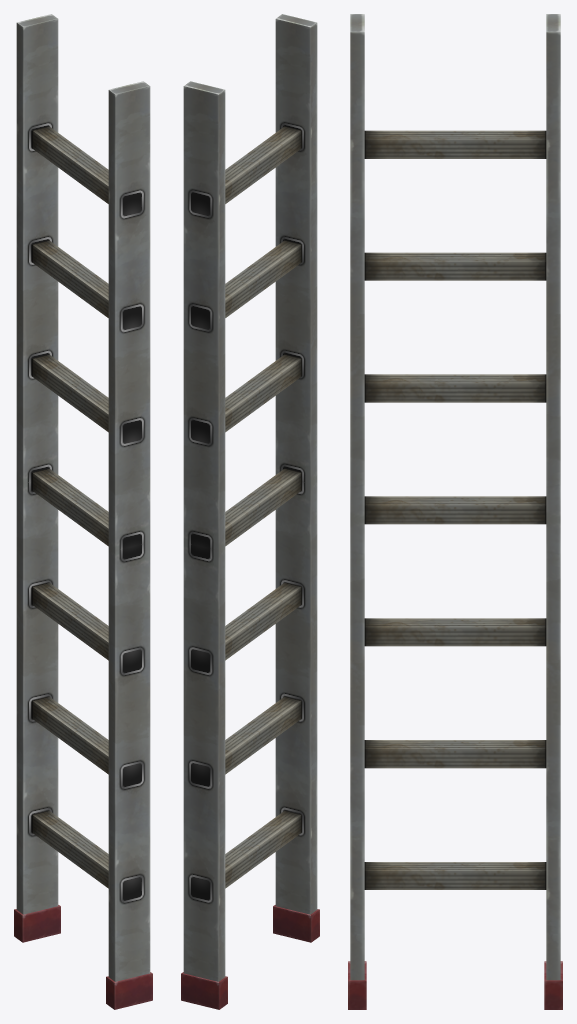
Rendered from ladder04.fbx.
3 views of the same model, side by side, from view 1: azimuth 30°, elevation 25°; view 2: azimuth 150°, elevation 25°; view 3: azimuth 270°, elevation 25° (orthographic). The views are drawn at different scales.
Visible parts, largest first — view 1: ladder04; view 2: ladder04; view 3: ladder04.
Part boxes in pixels (x1,y1,x2,y2): ladder04: (14, 14, 152, 1009); ladder04: (181, 14, 319, 1009); ladder04: (348, 14, 562, 1009).
Size of the model in its own units: 11.18 by 255 by 50.75.
